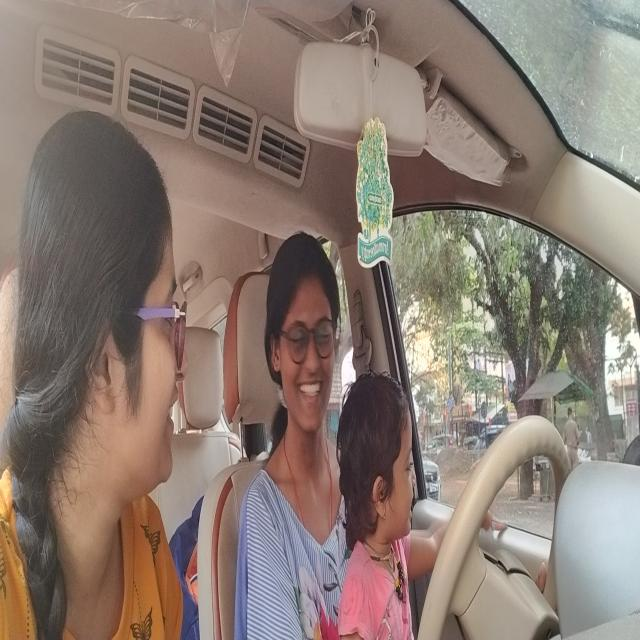LeftRight: (264, 245, 342, 429)
child: (349, 375, 419, 546)
person: (70, 106, 188, 503)
talking: (295, 378, 326, 413)
